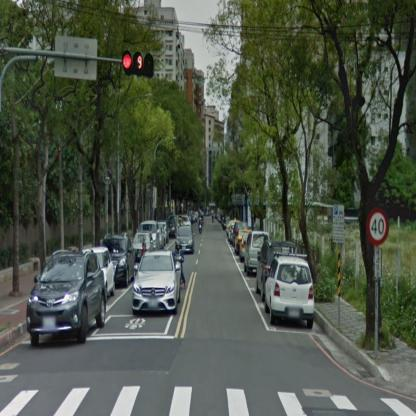Red Light: (119, 50, 156, 79)
Speed Limit 40: (366, 208, 390, 244)
